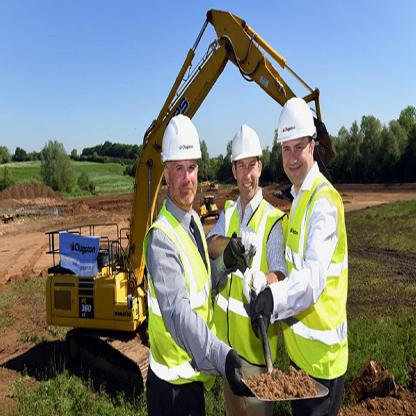person: (128, 80, 218, 401), (272, 107, 364, 415), (208, 106, 290, 415)
